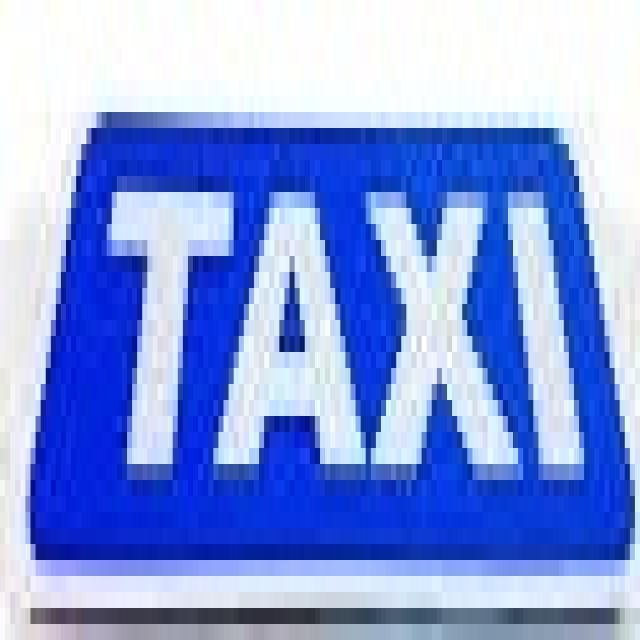LicensePlate: (30, 109, 639, 589)
